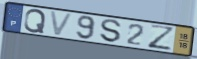2: (126, 23, 146, 47)
9: (76, 15, 97, 41)
Q: (23, 8, 48, 34)
S: (99, 19, 123, 44)
V: (48, 10, 75, 38)
Z: (147, 23, 177, 52)
